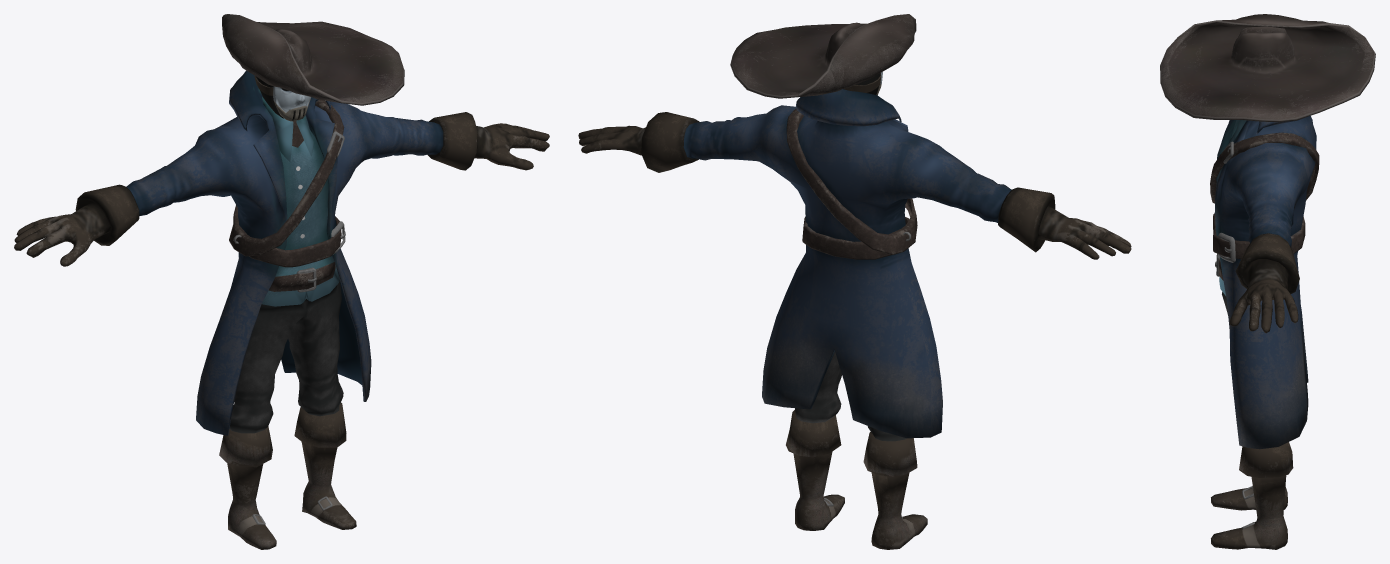
File: Blake.FBX
3 renders of one model, left to right at view 1: azimuth 30°, elevation 25°; view 2: azimuth 150°, elevation 25°; view 3: azimuth 270°, elevation 25°, orthographic. The views are drawn at different scales.
Parts seen in each view (by area): view 1: Body; view 2: Body; view 3: Body.
Part boxes in pixels (x1,y1,x2,y2): Body: (14, 14, 549, 549); Body: (578, 14, 1131, 549); Body: (1160, 14, 1375, 549).
Size of the model in its own units: 219 by 75.05 by 191.
